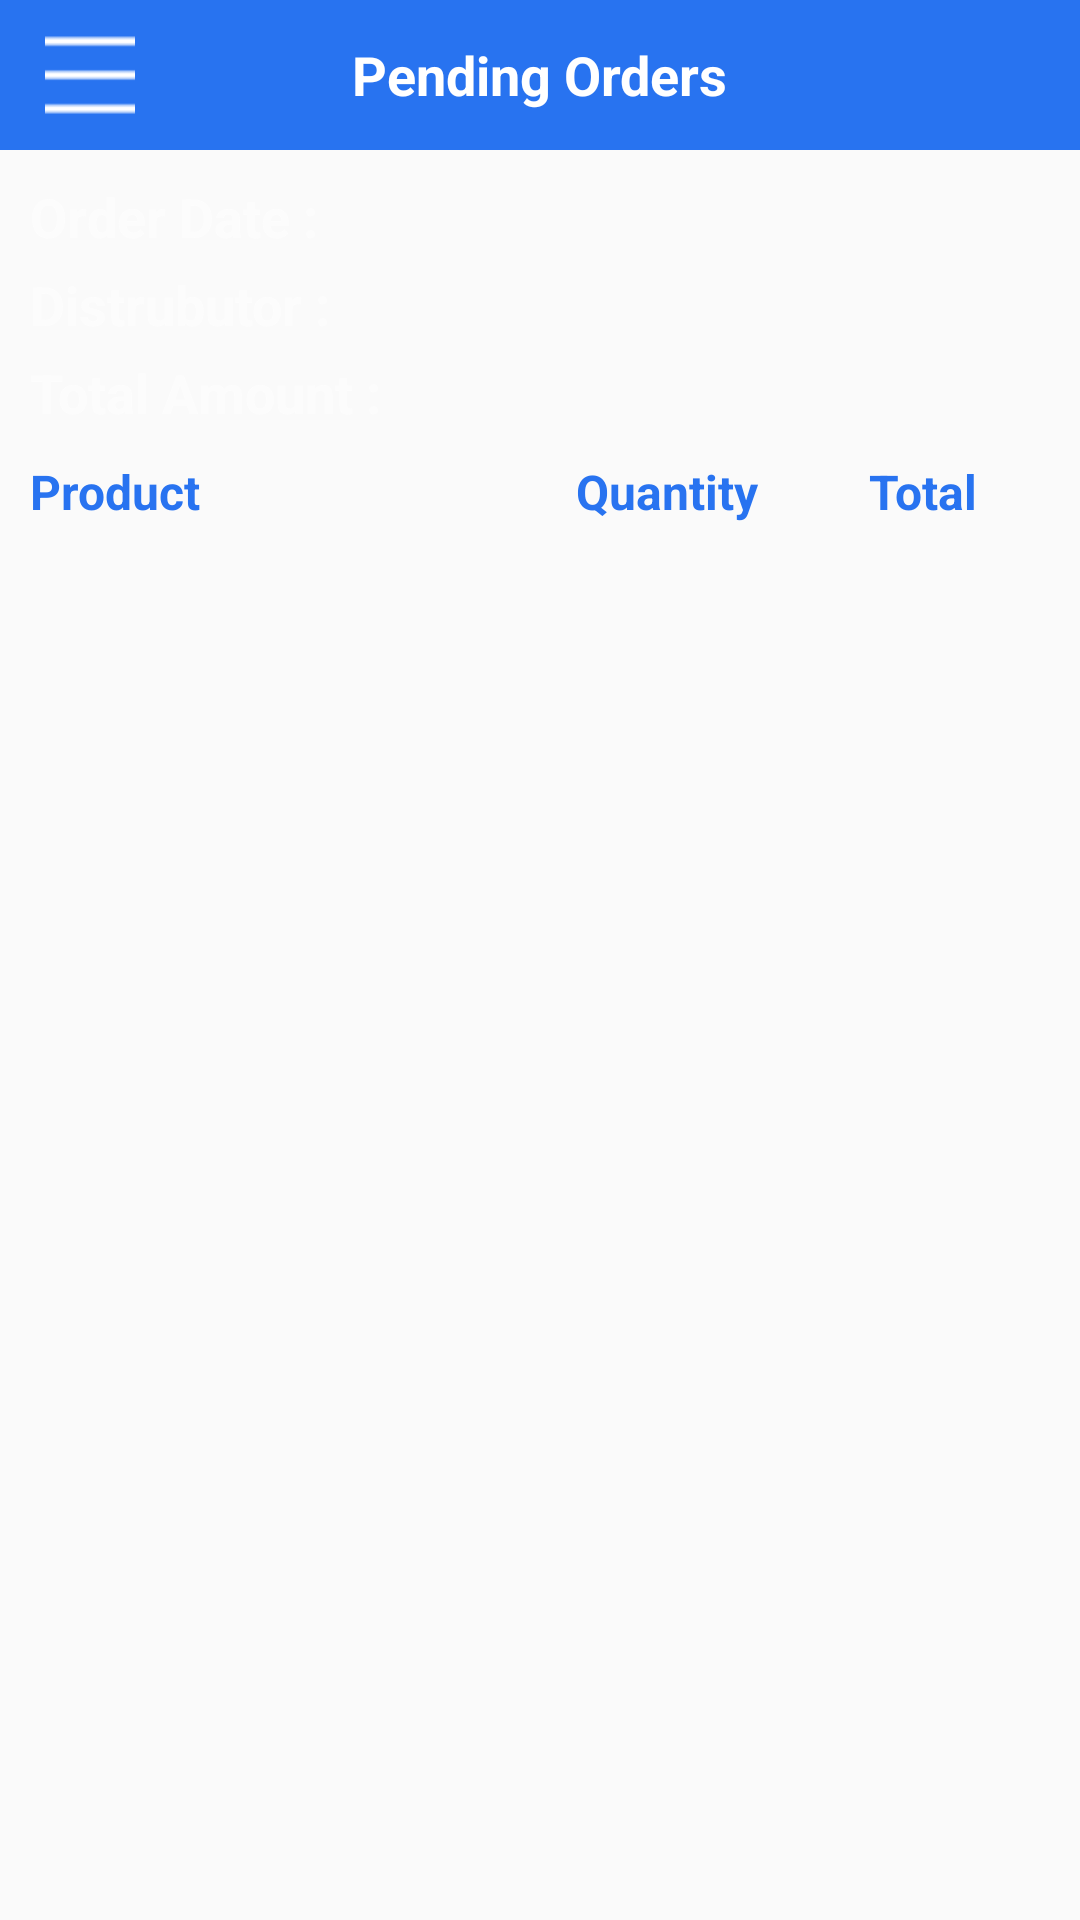

Screen size 1080×1920. Icon name, then its box in pixels as (x1, y1, x2, y2):
menu: (45, 36, 135, 114)
